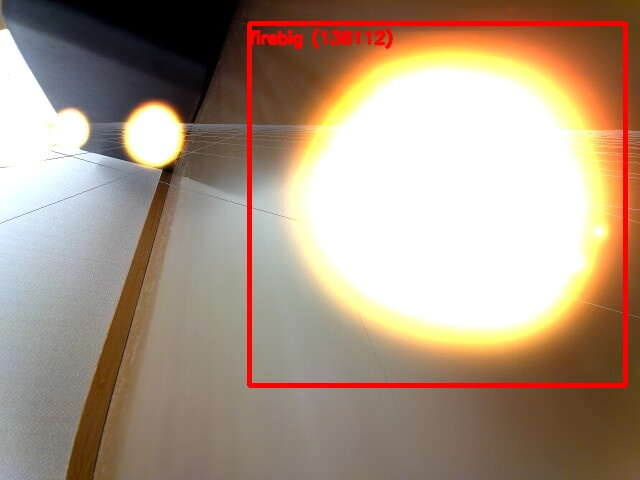firebig: (249, 23, 625, 385)
